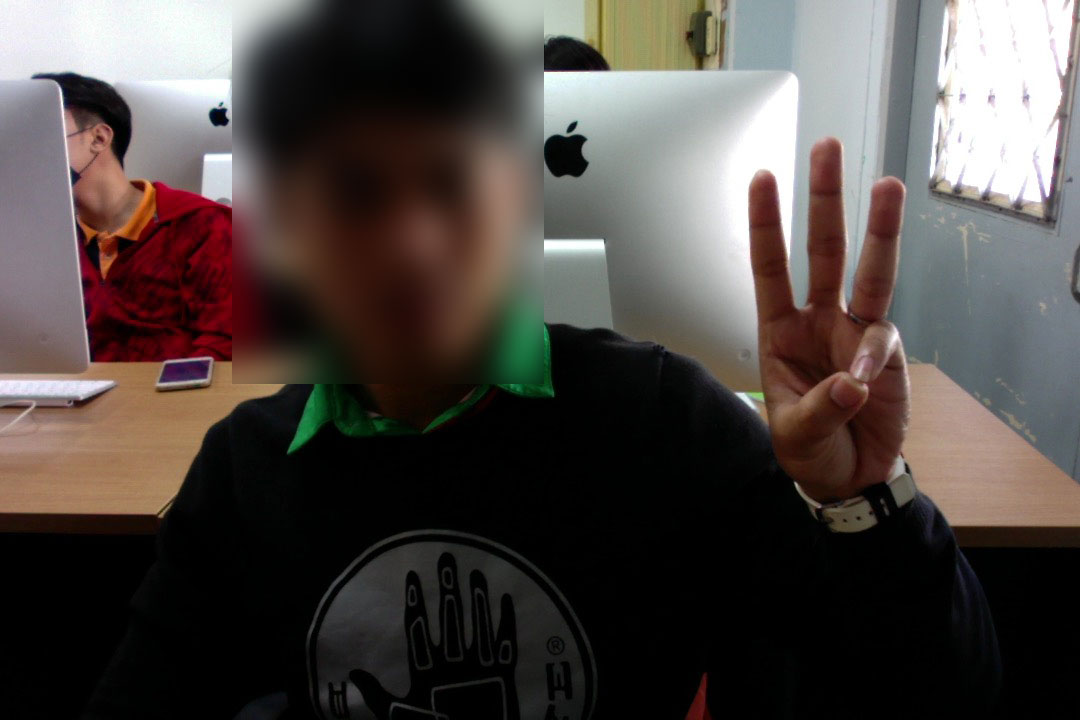wor: (723, 129, 930, 508)
